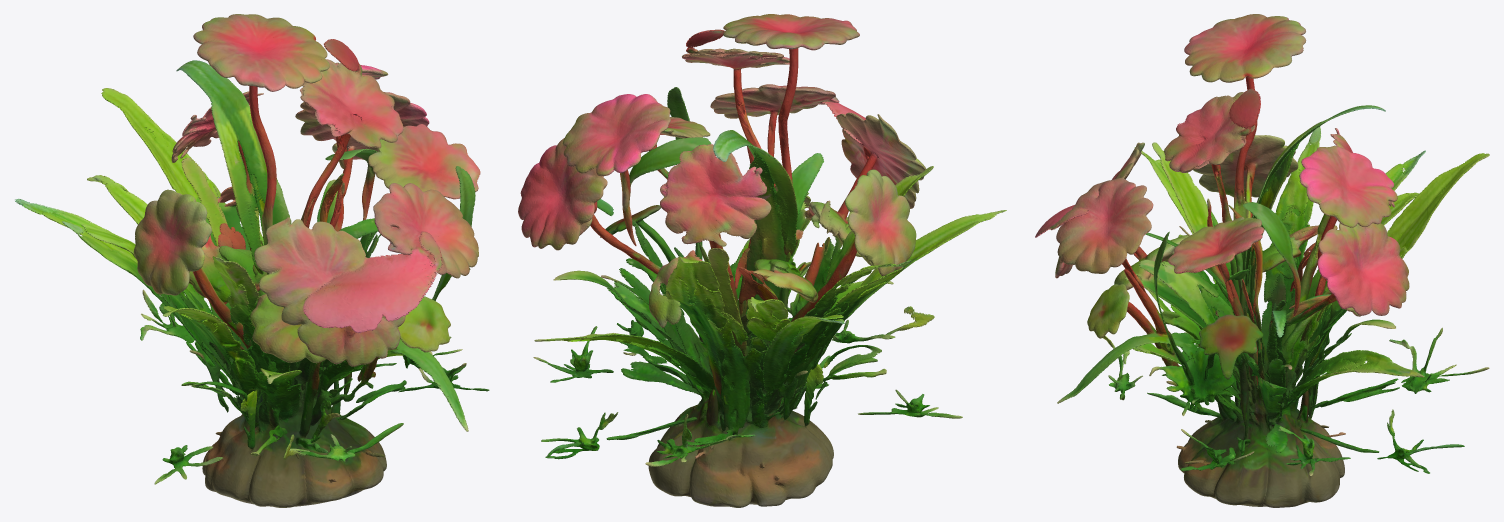
Rendered from plantmonglb.glb.
3 views of the same model, side by side, from view 1: azimuth 30°, elevation 25°; view 2: azimuth 150°, elevation 25°; view 3: azimuth 270°, elevation 25° (orthographic). The views are drawn at different scales.
Visible parts, largest first — view 1: tripo_node_406e6cbe-8dcf-41db-abdb-e97a6004ef64; view 2: tripo_node_406e6cbe-8dcf-41db-abdb-e97a6004ef64; view 3: tripo_node_406e6cbe-8dcf-41db-abdb-e97a6004ef64.
Boxes of the visible parts, x1=… form: tripo_node_406e6cbe-8dcf-41db-abdb-e97a6004ef64: x1=15, y1=14, x2=489, y2=507; tripo_node_406e6cbe-8dcf-41db-abdb-e97a6004ef64: x1=518, y1=14, x2=1006, y2=507; tripo_node_406e6cbe-8dcf-41db-abdb-e97a6004ef64: x1=1035, y1=14, x2=1489, y2=507.
Bounding box in the file's own units: 0.8773 × 1 × 0.9568.
1 material, 1 textured.
